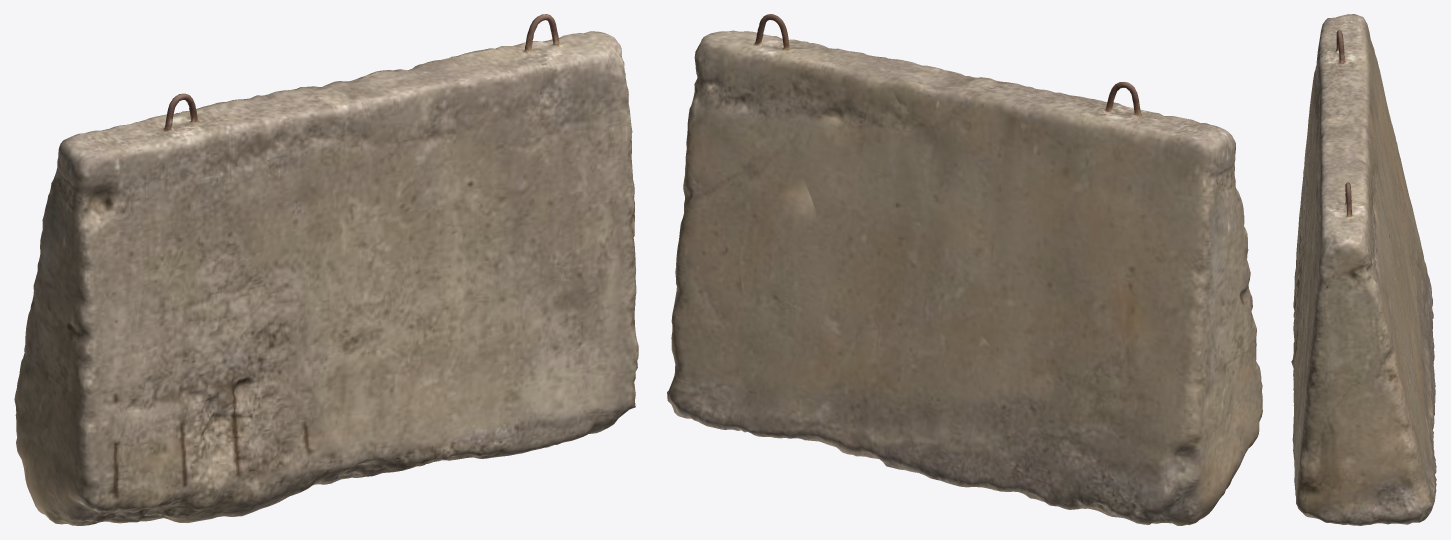
The model's file is concrete_road_barrier_02.glb.
The picture shows the model from 3 angles, left to right: view 1: azimuth 30°, elevation 25°; view 2: azimuth 150°, elevation 25°; view 3: azimuth 270°, elevation 25°; orthographic projection. The views are drawn at different scales.
Visible parts, largest first — view 1: concrete_road_barrier_02; view 2: concrete_road_barrier_02; view 3: concrete_road_barrier_02.
Boxes of the visible parts, box(x1,y1,x2,y2) form: concrete_road_barrier_02: box(14, 14, 638, 525); concrete_road_barrier_02: box(667, 14, 1262, 525); concrete_road_barrier_02: box(1291, 14, 1436, 525).
Bounding box in the file's own units: 1.57 × 1.11 × 0.4421.
Materials: 1 (1 with a texture image).
